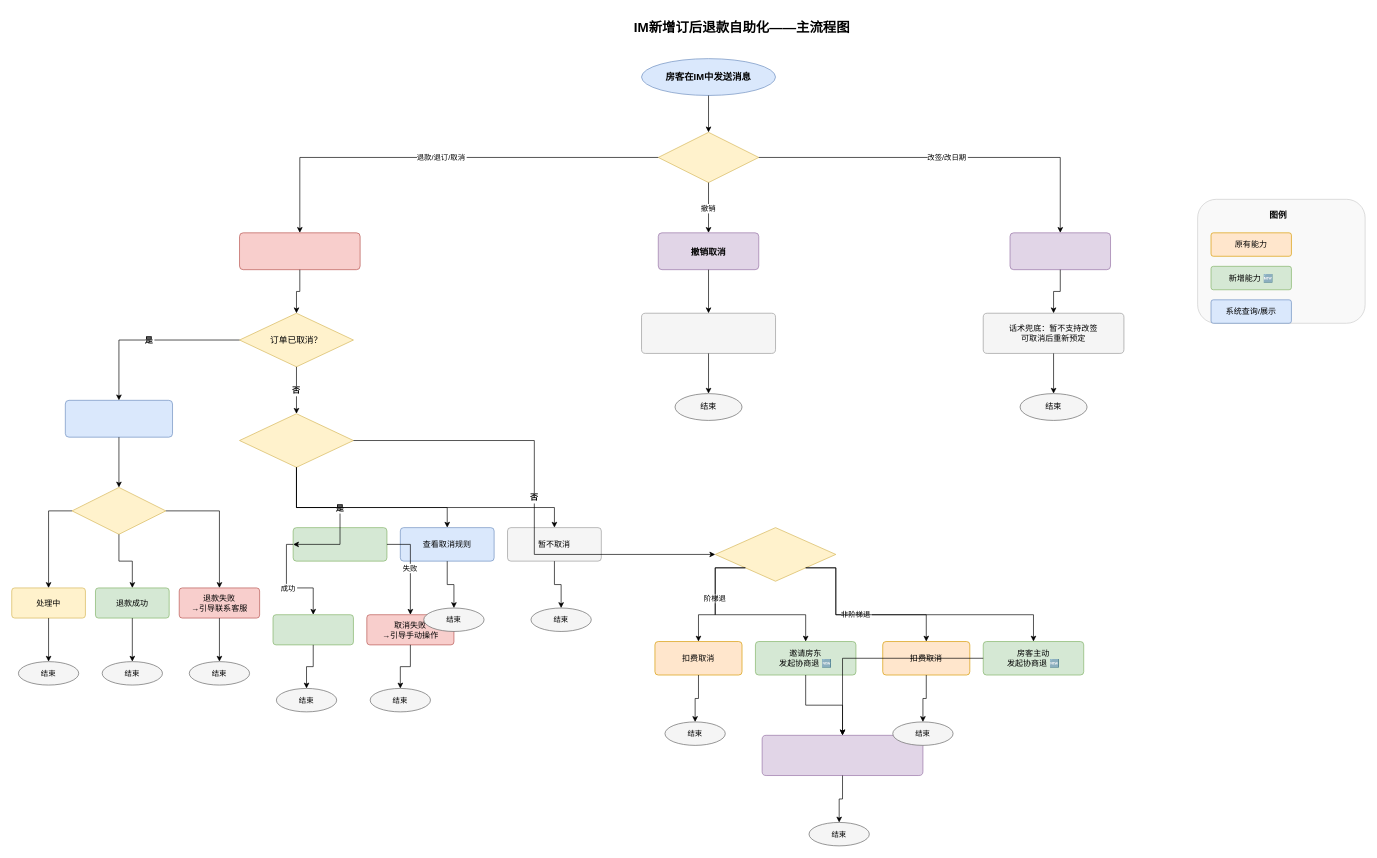
This 1377x858 diagram has some shape labels left out. Here are the shapes that lost their labels. From the top down, the centre of each, then its label:
At [708,157]: "意图识别".
At [299,251]: "退款 / 退订 / 取消".
At [1060,251]: "改签订单".
At [708,333]: "话术兜底：已取消不可撤销 如需入住请重新预定".
At [119,418]: "展示退款进度".
At [296,440]: "可免费取消？".
At [118,510]: "退款状态？".
At [339,544]: "确认取消订单".
At [775,554]: "退款规则类型？".
At [312,629]: "取消成功".
At [842,755]: "协商退流程 房东同意 / 拒绝 → 通知房客".
